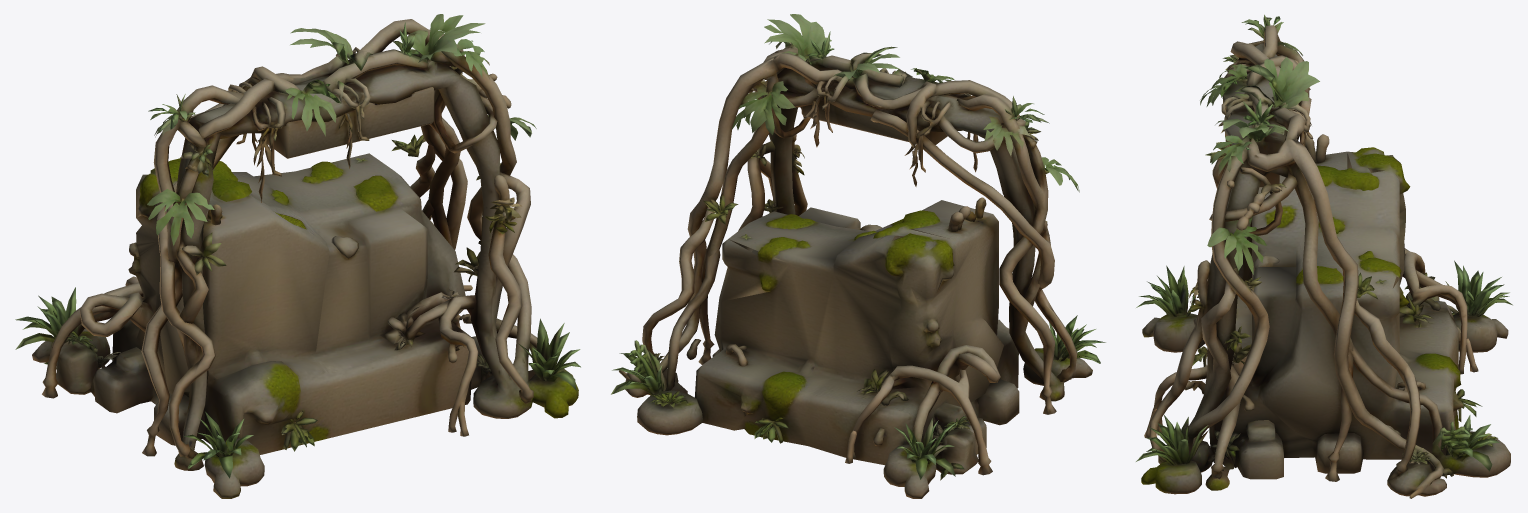
Rendered from jun_root_arch_over_stone.glb.
3 renders of one model, left to right at view 1: azimuth 30°, elevation 25°; view 2: azimuth 150°, elevation 25°; view 3: azimuth 270°, elevation 25°, orthographic. The views are drawn at different scales.
Parts seen in each view (by area): view 1: tripo_node_2b6c4d80-21eb-4c0a-b062-b441cd52e211; view 2: tripo_node_2b6c4d80-21eb-4c0a-b062-b441cd52e211; view 3: tripo_node_2b6c4d80-21eb-4c0a-b062-b441cd52e211.
Boxes of the visible parts, x1,y1,x2,y2 form: tripo_node_2b6c4d80-21eb-4c0a-b062-b441cd52e211: (15,14,580,498); tripo_node_2b6c4d80-21eb-4c0a-b062-b441cd52e211: (611,14,1105,498); tripo_node_2b6c4d80-21eb-4c0a-b062-b441cd52e211: (1136,14,1512,498).
Bounding box in the file's own units: 0.998 × 0.834 × 0.8301.
Materials: 1 (1 with a texture image).
